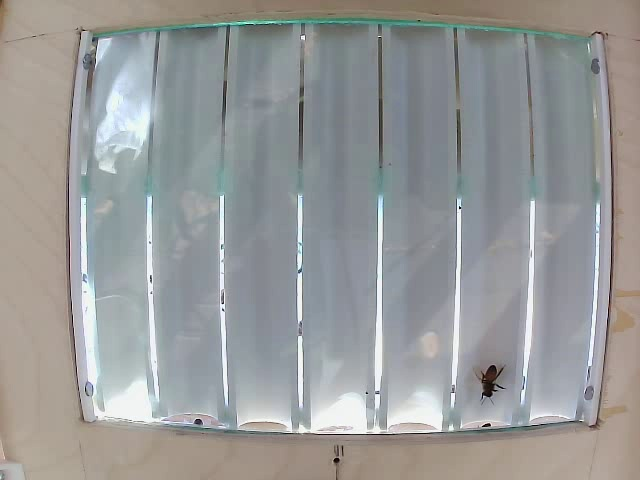bee: (474, 364, 504, 400)
